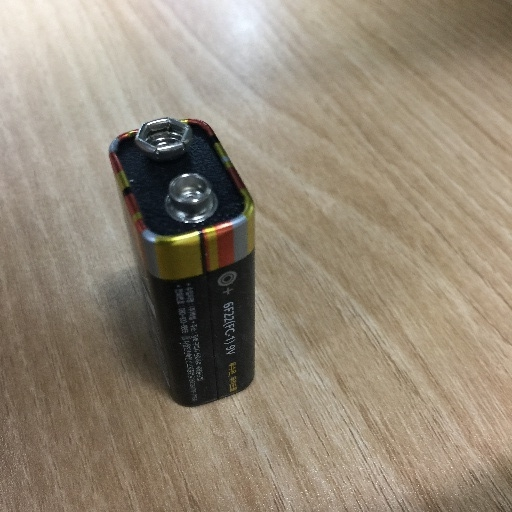Battery_3: (95, 102, 284, 427)
